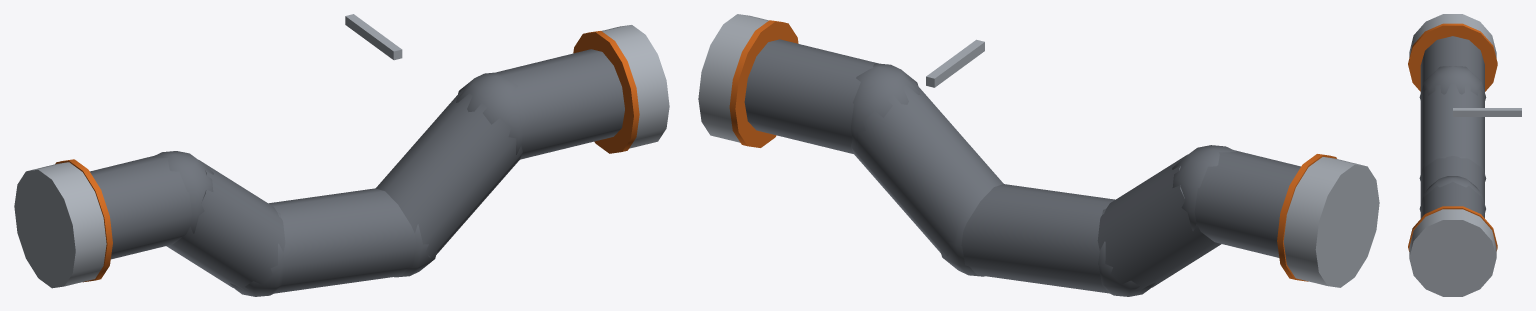
Rendered from duct_flex_duct_hose.glb.
3 renders of one model, left to right at view 1: azimuth 30°, elevation 25°; view 2: azimuth 150°, elevation 25°; view 3: azimuth 270°, elevation 25°, orthographic. The views are drawn at different scales.
Visible parts, largest first — view 1: duct_flex_duct_hose; view 2: duct_flex_duct_hose; view 3: duct_flex_duct_hose.
Boxes of the visible parts, x1,y1,x2,y2 form: duct_flex_duct_hose: [14, 14, 669, 296]; duct_flex_duct_hose: [698, 14, 1379, 296]; duct_flex_duct_hose: [1408, 14, 1521, 296].
Size of the model in its own units: 2.12 by 0.76 by 0.495.
